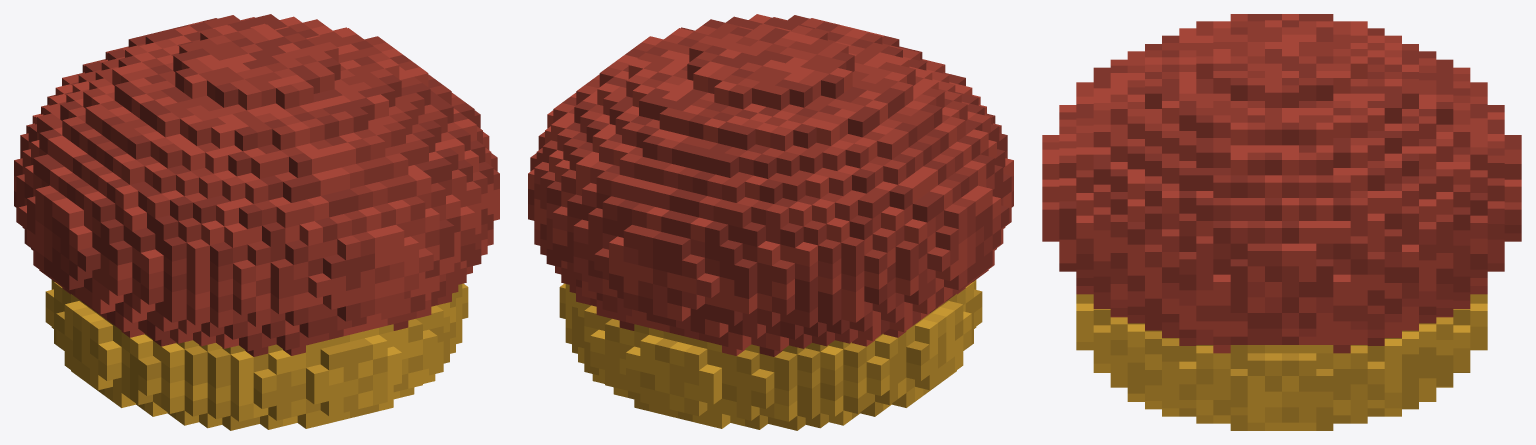
Rendered from Loyo-Primordia.obj.
The picture shows the model from 3 angles, left to right: view 1: azimuth 30°, elevation 25°; view 2: azimuth 150°, elevation 25°; view 3: azimuth 270°, elevation 25°; orthographic projection.
Bounding box in the file's own units: 2.8 × 1.9 × 2.8.
Materials: 1 (1 with a texture image).
